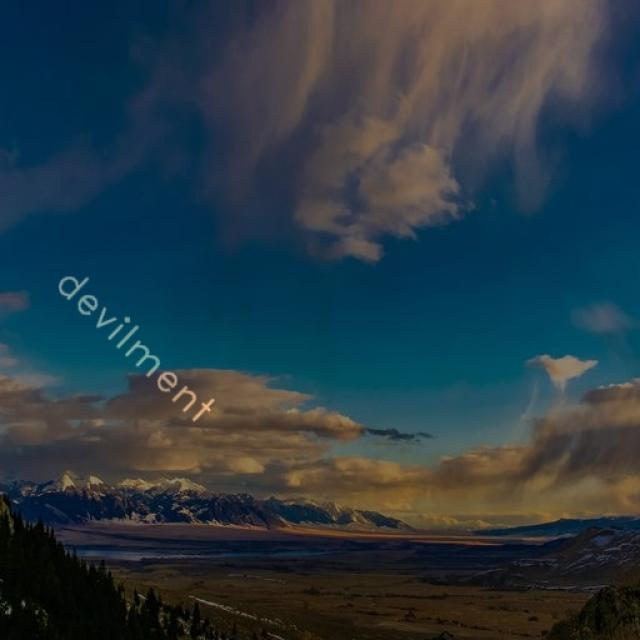watermark: (42, 253, 226, 432)
